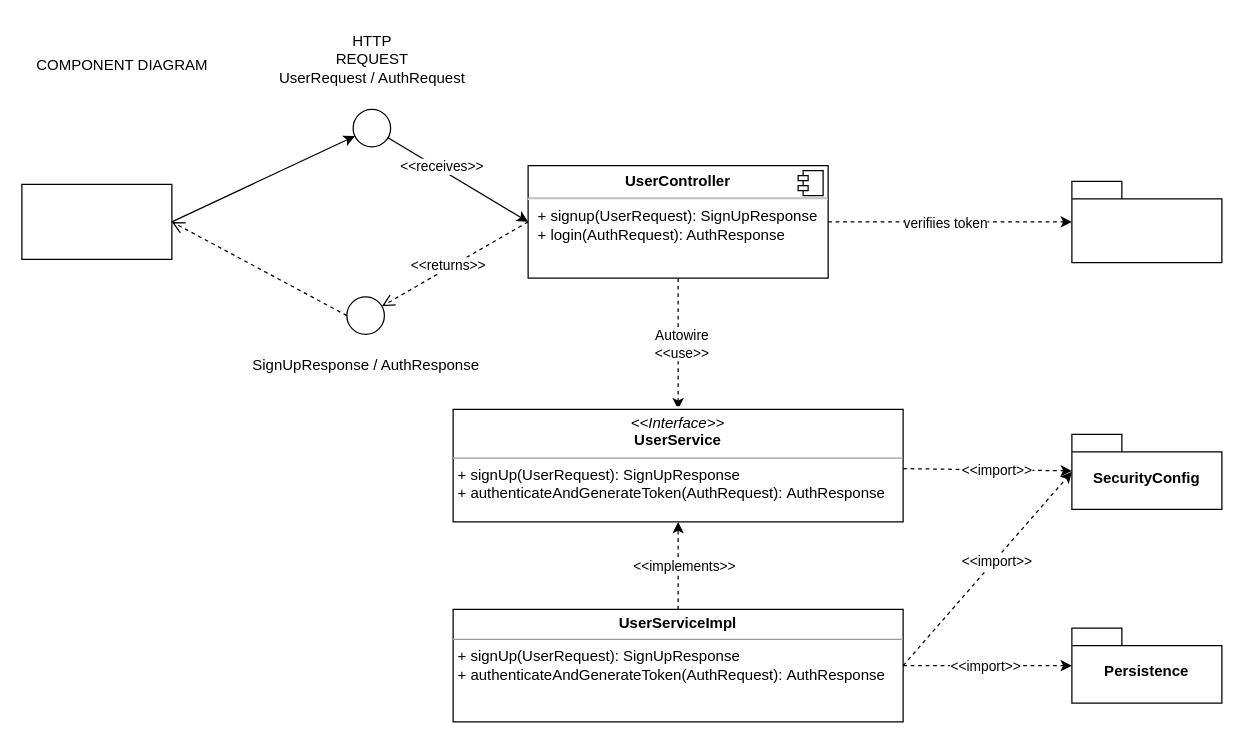
Image size: 1244x744. Some labels were removed from this diagram. Here are the shapes that lost their labels. From the top down, the centre of each, then its label:
point (96, 221): Browser / Postman
point (1146, 221): JwtTokenFilter
